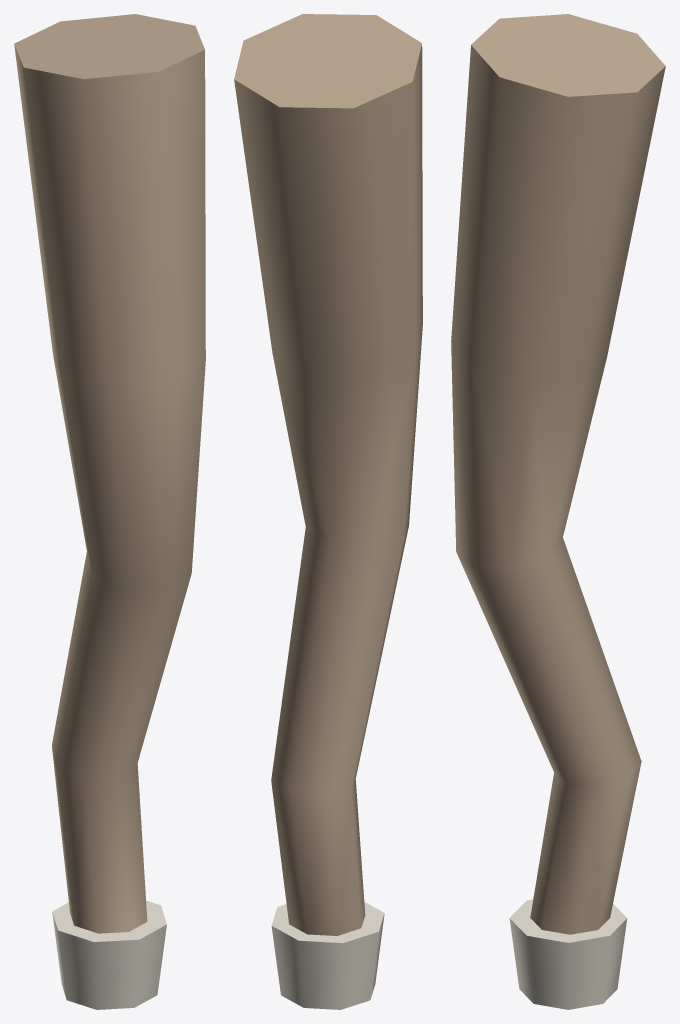
The model's file is cr_leg_a.fbx.
The picture shows the model from 3 angles, left to right: view 1: azimuth 30°, elevation 25°; view 2: azimuth 150°, elevation 25°; view 3: azimuth 270°, elevation 25°; orthographic projection.
Parts seen in each view (by area): view 1: Leg; view 2: Leg; view 3: Leg.
Part boxes in pixels (bbox=[...]): Leg: bbox=[14, 14, 205, 1009]; Leg: bbox=[234, 14, 422, 1009]; Leg: bbox=[451, 14, 665, 1009].
Size of the model in its own units: 0.2 by 1.06 by 0.2188.
